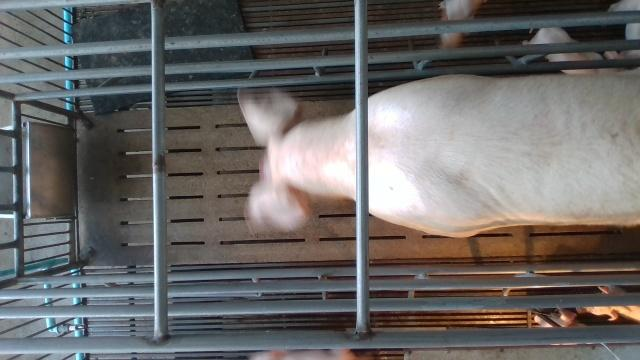piglet: (523, 27, 605, 72), (604, 0, 640, 69), (575, 287, 640, 323), (440, 0, 487, 48)
sow-stand: (237, 70, 640, 237)
